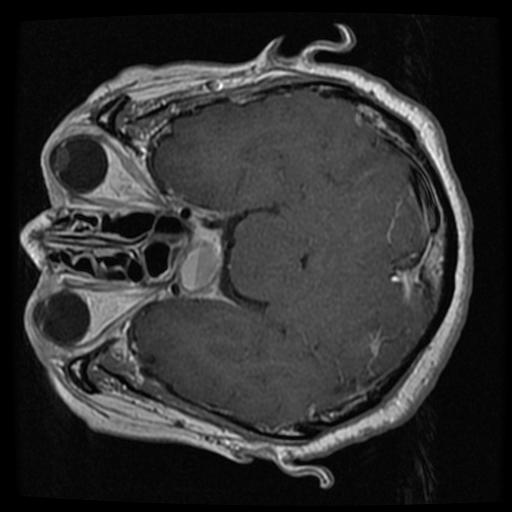pituitary tumour: (178, 229, 221, 300)
